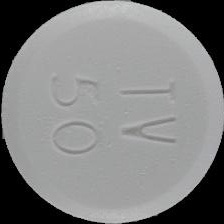67296-0041: (0, 0, 224, 224)
